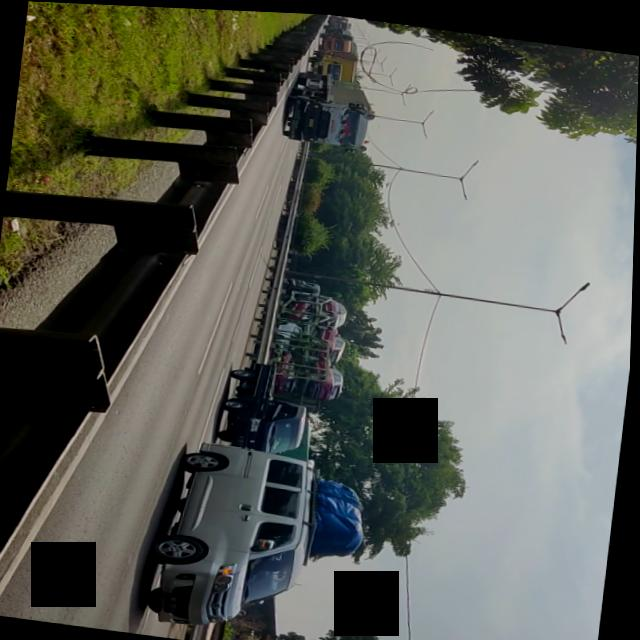Golongan I: (137, 432, 333, 638), (210, 353, 317, 450)
